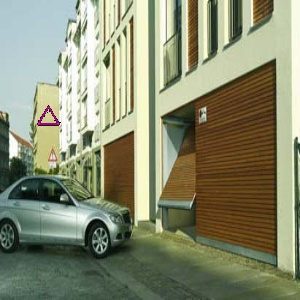triangle: (35, 104, 63, 128)
